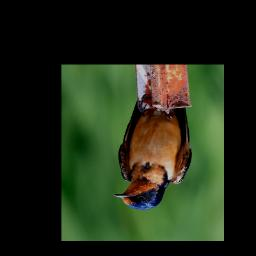Swallow: (113, 93, 192, 210)
